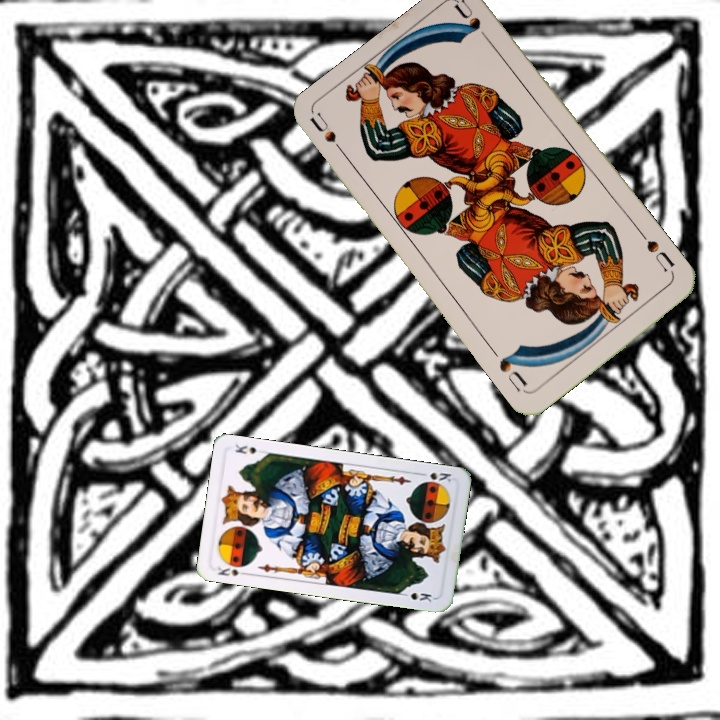SK: (415, 468, 454, 487), (214, 563, 251, 579)
SU: (307, 110, 352, 163), (636, 228, 678, 275)
